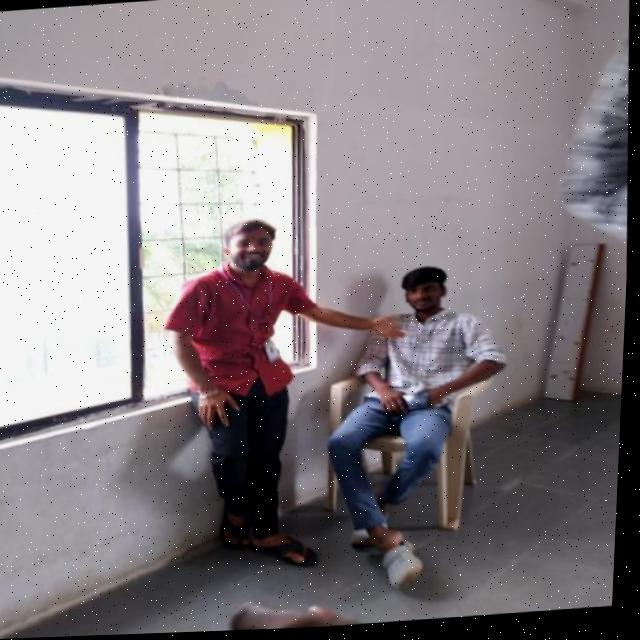id_card: (220, 261, 289, 370)
